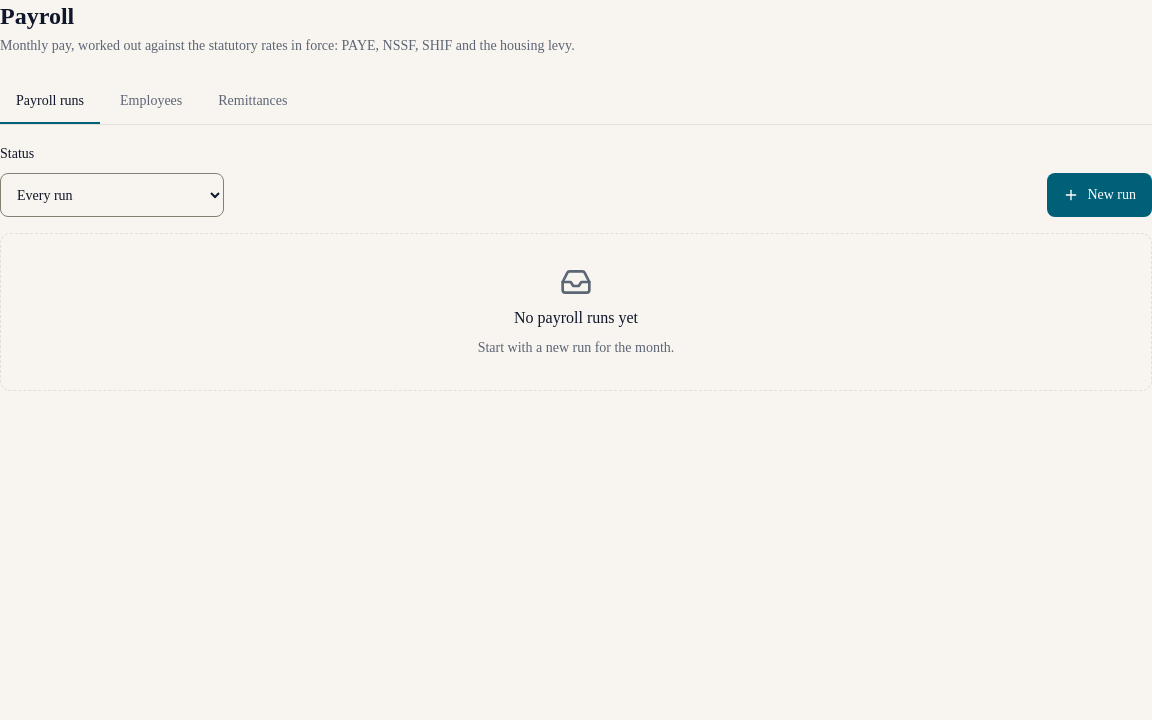
Test: payroll runs › refuses a second run for the month in the server's words, keeping the form
The width and height of the screenshot is (1152, 720).
Step 1. Click the button "New run" → {"x": 1100, "y": 195}, box [1047,173,1151,217]
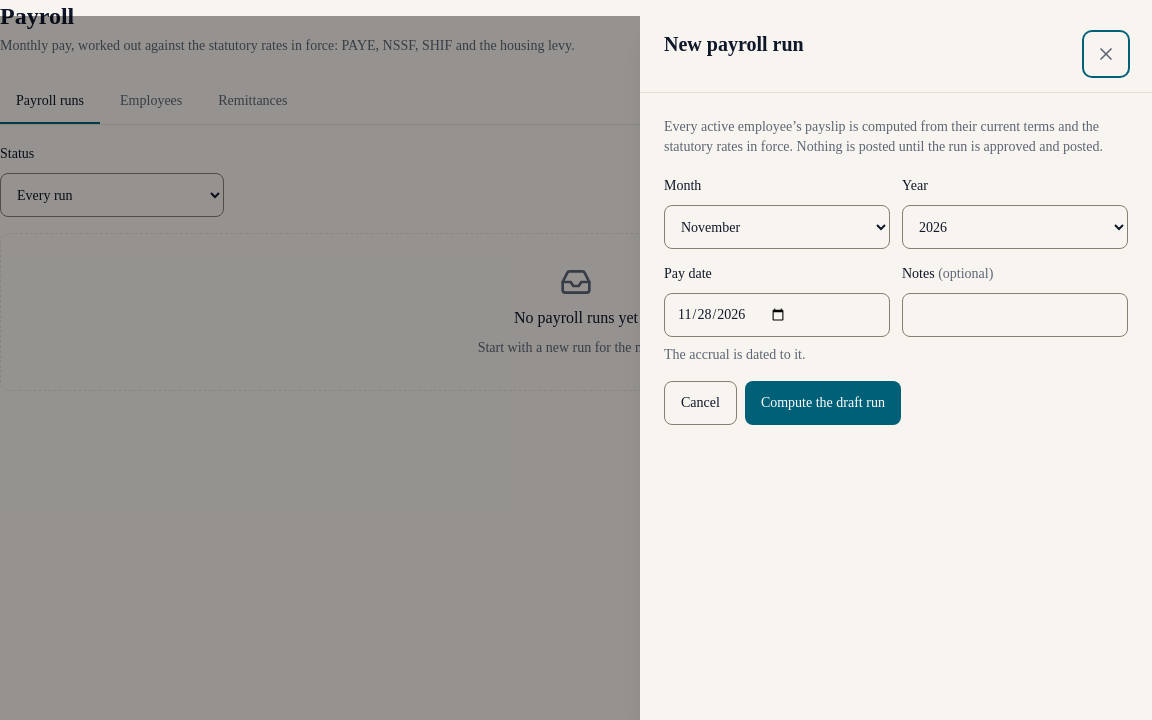
Step 2. Click the button "Compute the draft run" → {"x": 823, "y": 403}, box [745,381,901,425]
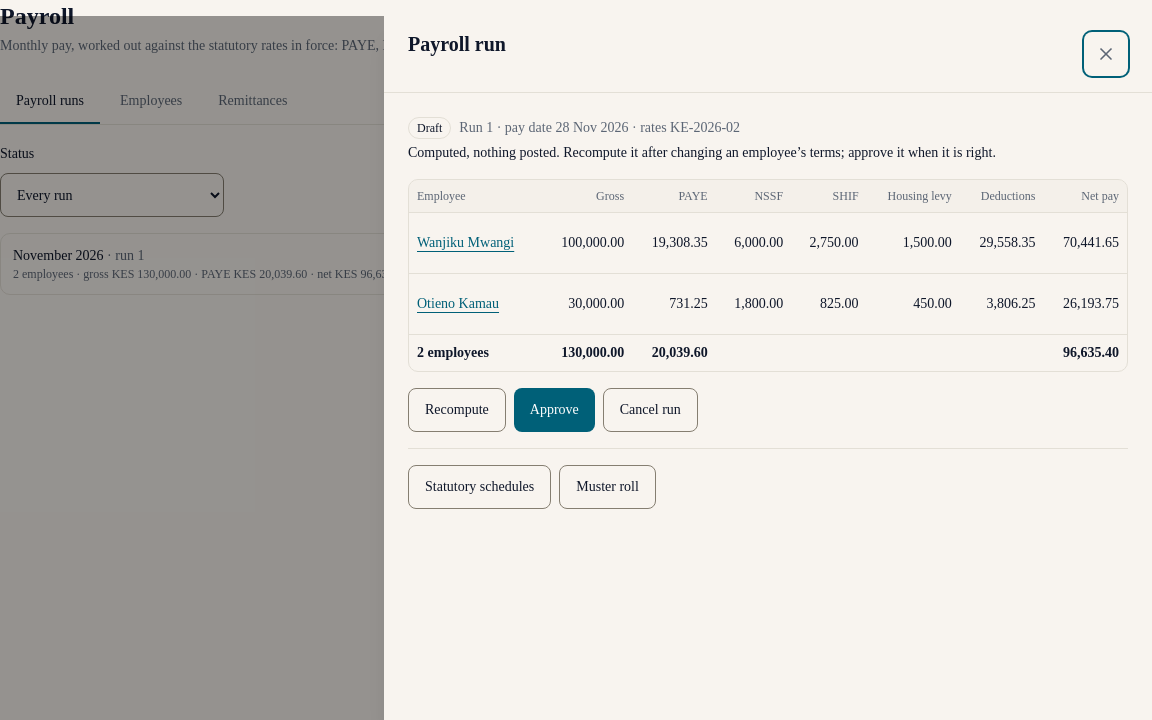
Step 3. Click the button named "Close" → {"x": 1106, "y": 54}, box [1084,32,1128,76]
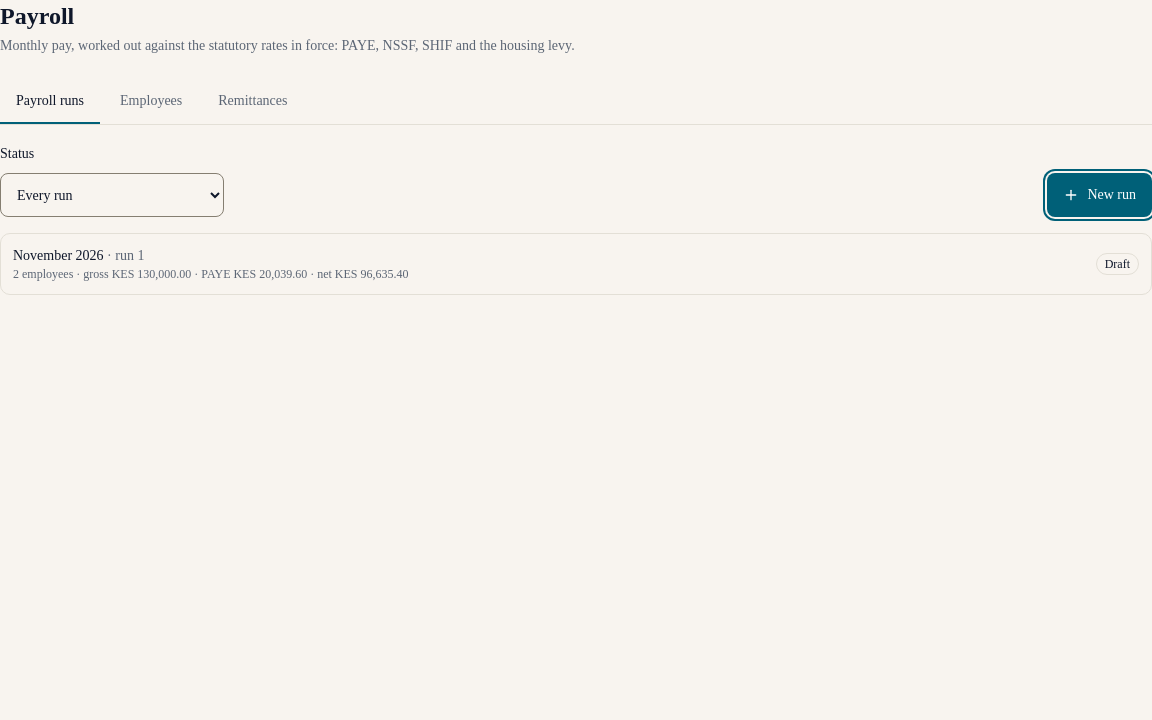
Step 4. Click the button "New run" → {"x": 1100, "y": 195}, box [1047,173,1151,217]
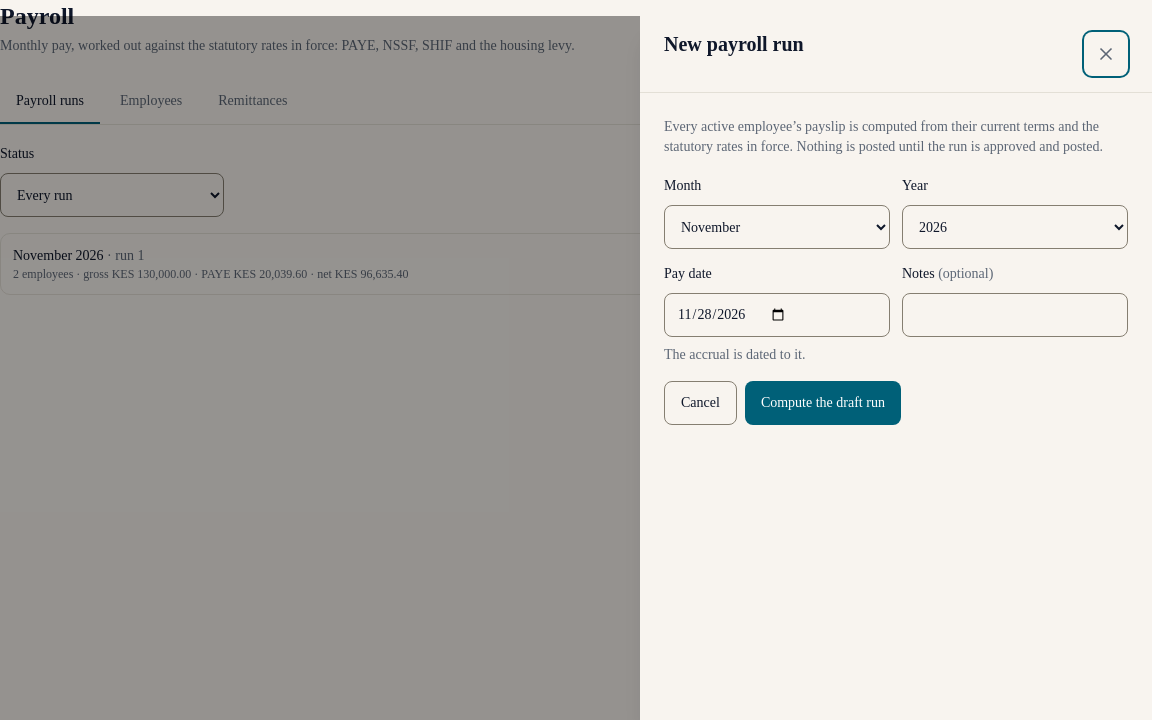
Step 5. Type "second try" into the field labelled "Notes (optional)" → {"x": 1015, "y": 315}, box [902,293,1128,337]
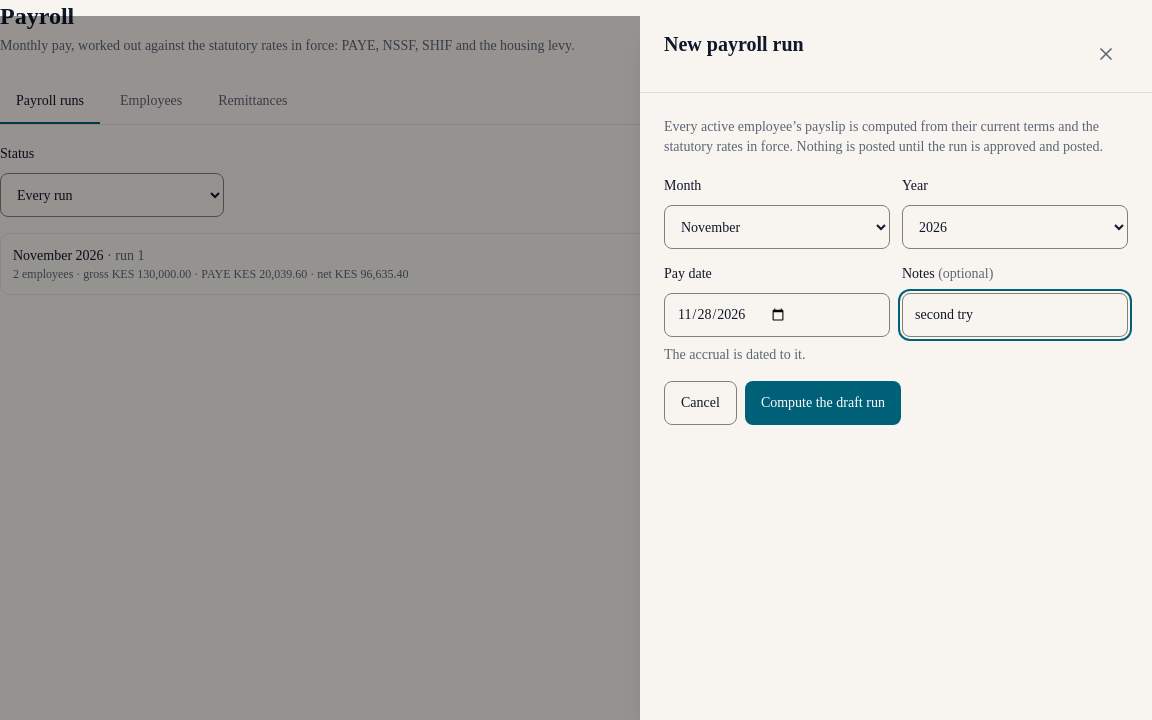
Step 6. Click the button "Compute the draft run" → {"x": 823, "y": 403}, box [745,381,901,425]
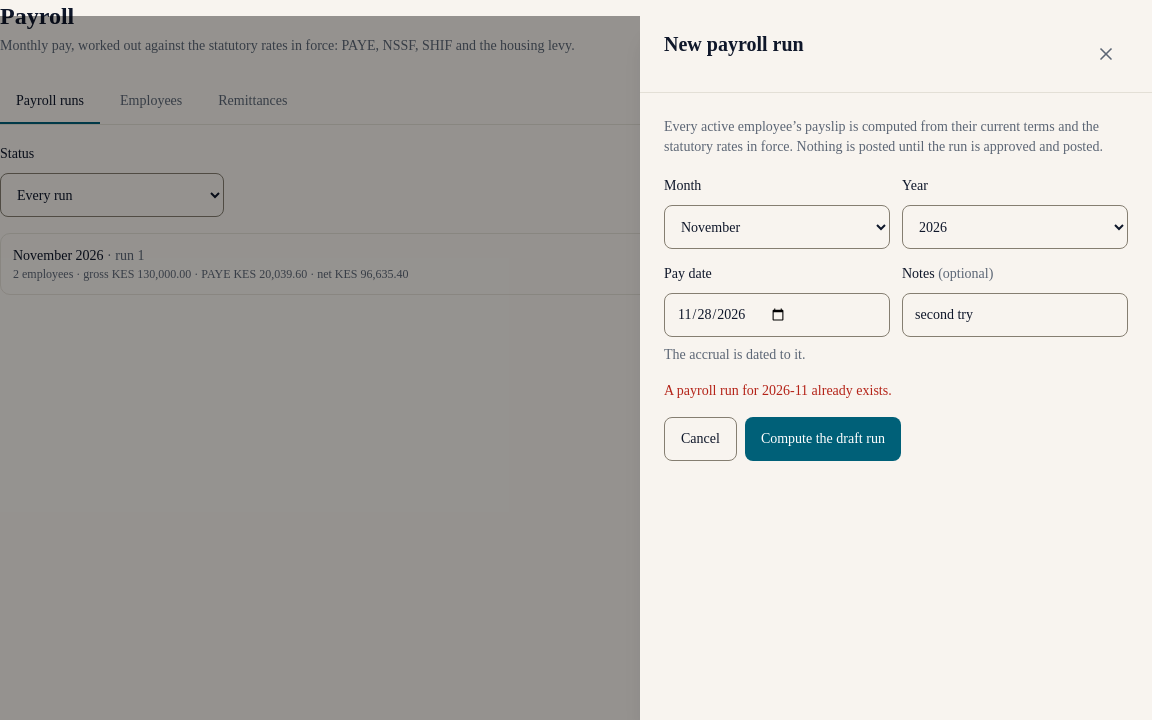
Expected: the message shows "already exists", [664,383,892,398]
